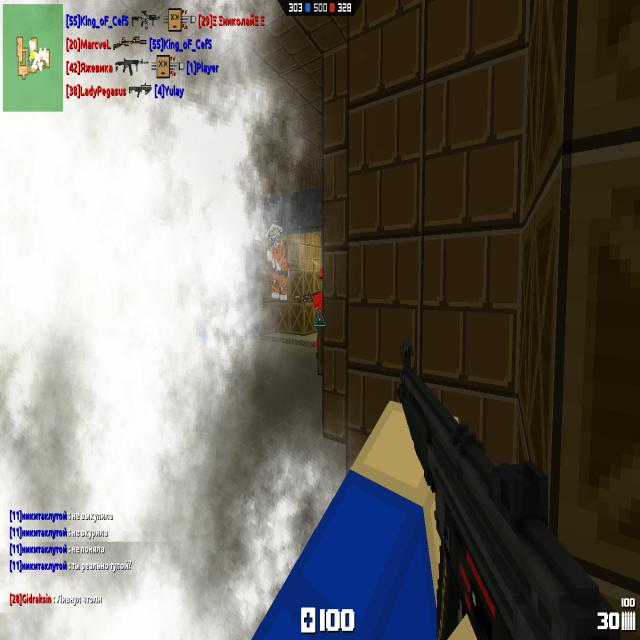enemy: (266, 220, 290, 300), (312, 264, 322, 358)
